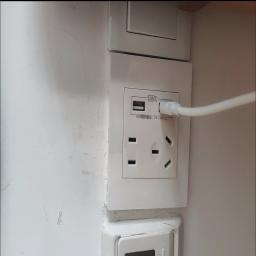outlet: (100, 48, 202, 218)
